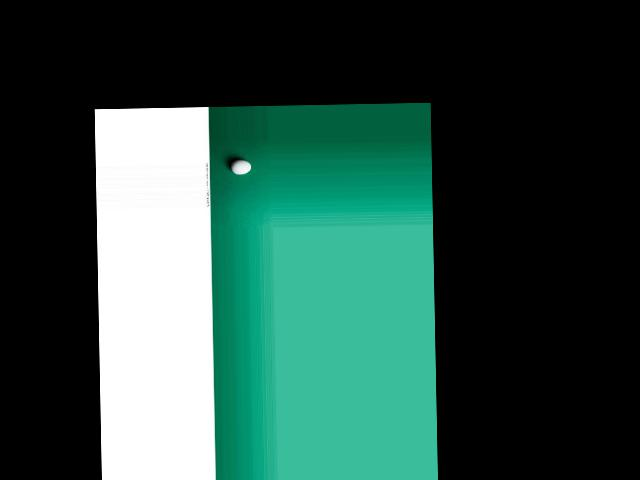egg: (230, 160, 251, 175)
